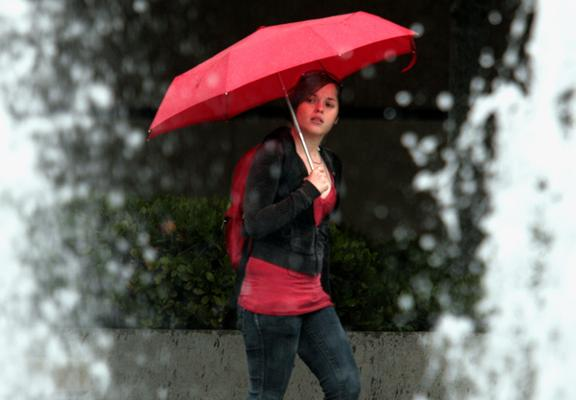person: (236, 69, 364, 400)
